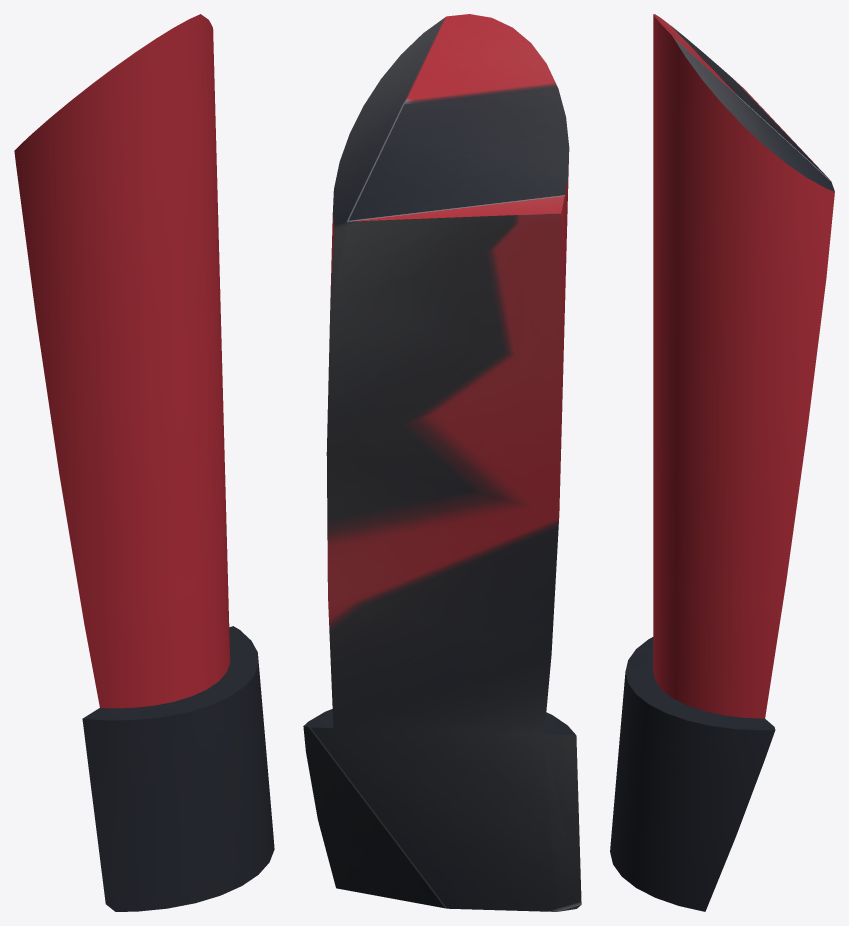
Rendered from torii_broken_050.obj.
3 renders of one model, left to right at view 1: azimuth 30°, elevation 25°; view 2: azimuth 150°, elevation 25°; view 3: azimuth 270°, elevation 25°, orthographic. The views are drawn at different scales.
Parts seen in each view (by area): view 1: 鳥居.001_cell.054_鳥居.001_cell.032; view 2: 鳥居.001_cell.054_鳥居.001_cell.032; view 3: 鳥居.001_cell.054_鳥居.001_cell.032.
Part boxes in pixels (bbox=[...]): 鳥居.001_cell.054_鳥居.001_cell.032: bbox=[14, 14, 274, 911]; 鳥居.001_cell.054_鳥居.001_cell.032: bbox=[303, 14, 581, 911]; 鳥居.001_cell.054_鳥居.001_cell.032: bbox=[610, 14, 834, 911].
Bounding box in the file's own units: 0.3884 × 1.32 × 0.3225.
1 material, 1 textured.
